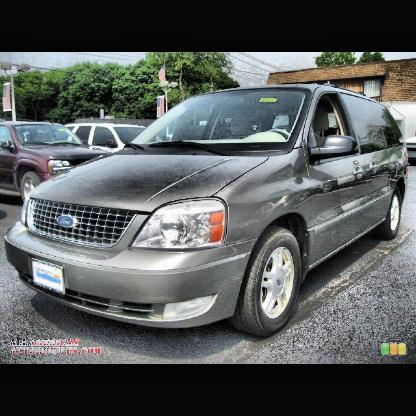Ford Freestar Minivan 2007: (6, 84, 408, 340)
